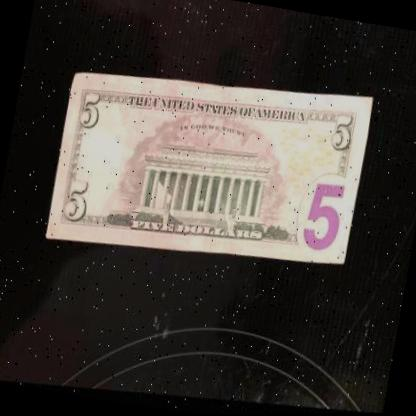five-back: (41, 50, 375, 293)
